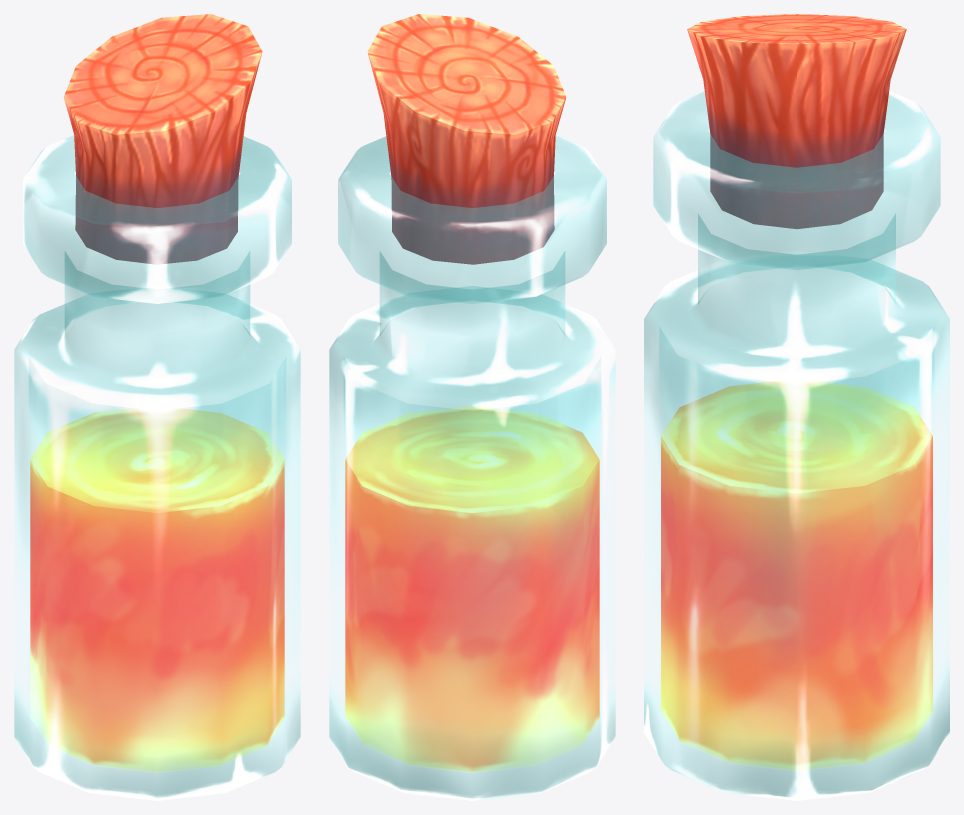
The model's file is magic_potion.glb.
3 views of the same model, side by side, from view 1: azimuth 30°, elevation 25°; view 2: azimuth 150°, elevation 25°; view 3: azimuth 270°, elevation 25° (orthographic). The views are drawn at different scales.
Visible parts, largest first — view 1: Bottle; view 2: Bottle; view 3: Bottle.
Part boxes in pixels (<box>): Bottle: <box>14,14,300,800</box>; Bottle: <box>329,14,615,800</box>; Bottle: <box>644,14,949,800</box>.
Size of the model in its own units: 0.0934 by 0.2503 by 0.0934.
Materials: 1 (1 with a texture image).
